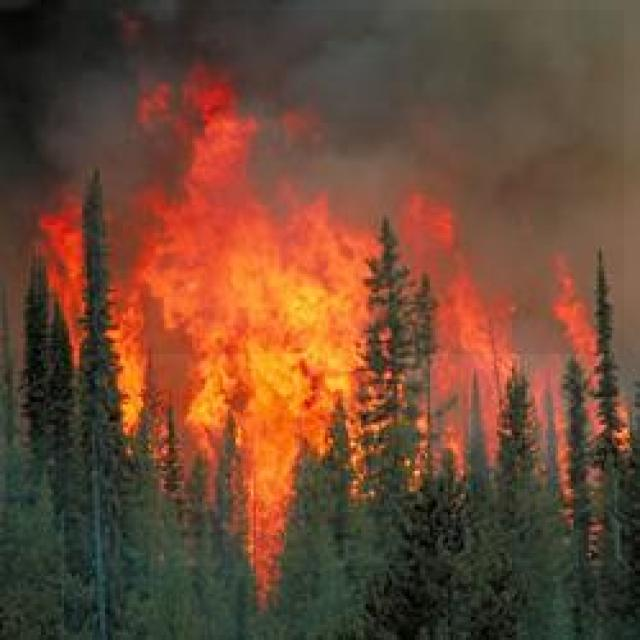Fire: (68, 146, 604, 566)
Smoke: (55, 10, 624, 354)
